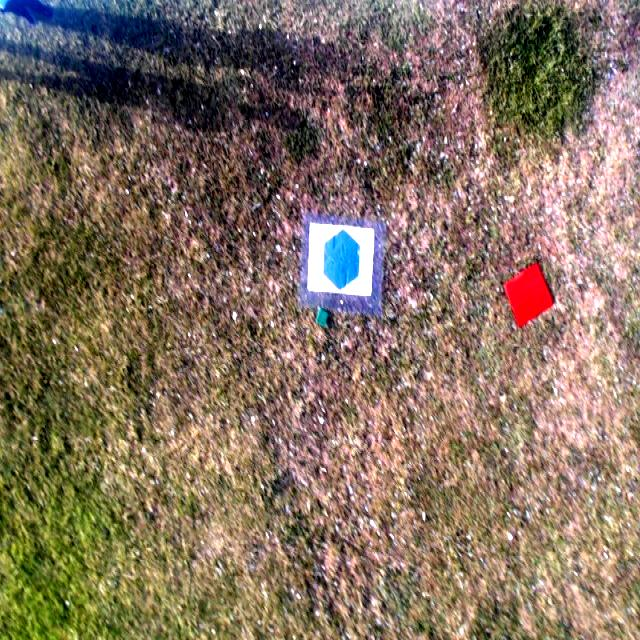blue_hexagon: (323, 229, 360, 291)
red_square: (504, 263, 554, 326)
